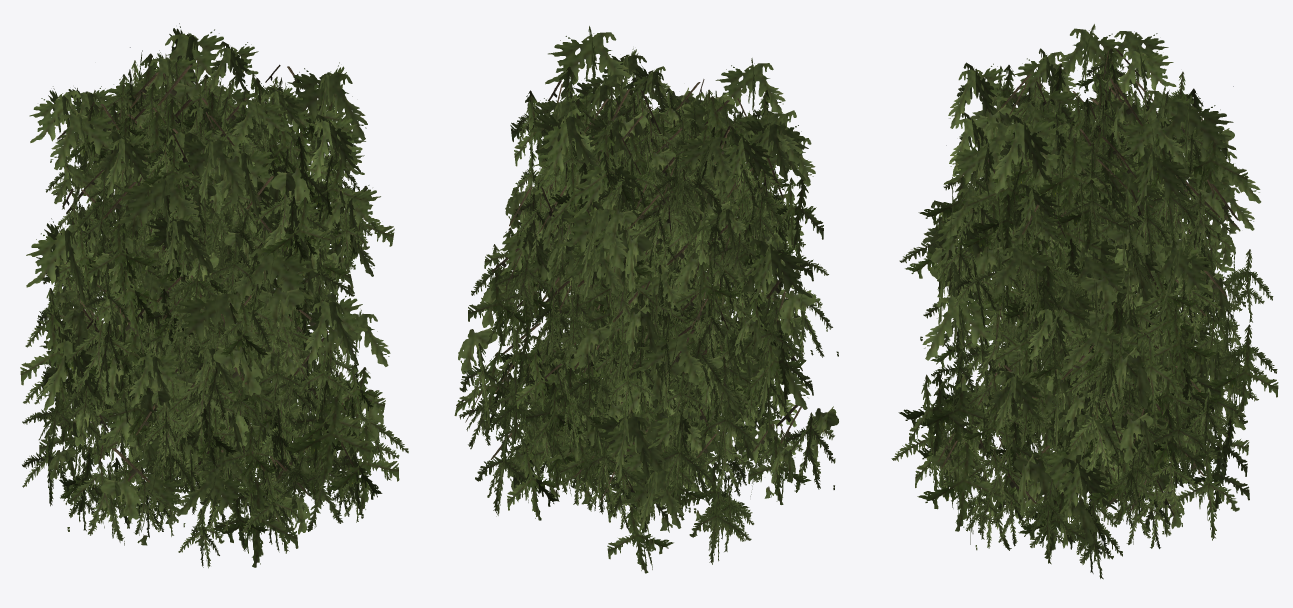
File: hedge-shrub-lod0.glb
3 renders of one model, left to right at view 1: azimuth 30°, elevation 25°; view 2: azimuth 150°, elevation 25°; view 3: azimuth 270°, elevation 25°, orthographic. The views are drawn at different scales.
Parts seen in each view (by area): view 1: foliage; view 2: foliage; view 3: foliage.
Boxes of the visible parts, left/top/right/bottom form: foliage: left=20, top=23, right=408, bottom=568; foliage: left=454, top=26, right=838, bottom=573; foliage: left=891, top=24, right=1278, bottom=579.
Size of the model in its own units: 1.02 by 1.25 by 0.9865.
Materials: 1 (1 with a texture image).
